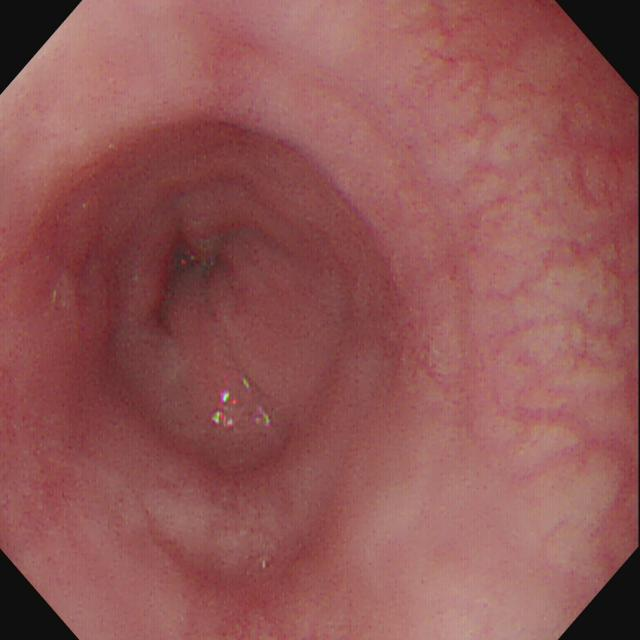A: (184, 562, 343, 640), (208, 35, 257, 112)
U: (214, 391, 238, 430)
